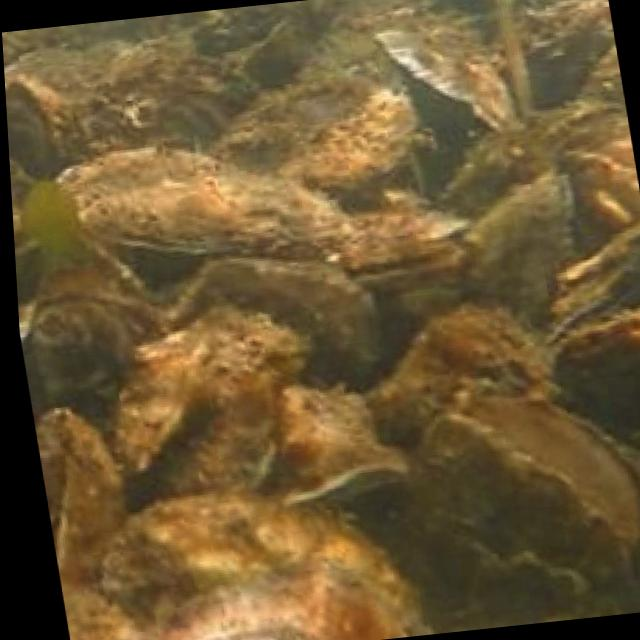Oyster-Closed: (547, 268, 640, 346), (344, 241, 460, 285)
Oyster-Indeterminate: (396, 399, 640, 626), (104, 496, 434, 640), (126, 305, 312, 517), (55, 148, 350, 255), (392, 169, 574, 333), (169, 257, 382, 390), (368, 306, 558, 447), (210, 68, 419, 192), (21, 294, 174, 461), (80, 58, 262, 155), (264, 386, 407, 506), (35, 407, 126, 585), (378, 29, 519, 134), (113, 331, 210, 474), (552, 313, 640, 454), (308, 195, 468, 265), (5, 79, 88, 181), (561, 152, 640, 257), (40, 243, 158, 310), (4, 48, 92, 119), (112, 26, 199, 87), (560, 221, 640, 287), (60, 583, 142, 640), (206, 21, 290, 76), (10, 163, 45, 269), (580, 47, 623, 103)
